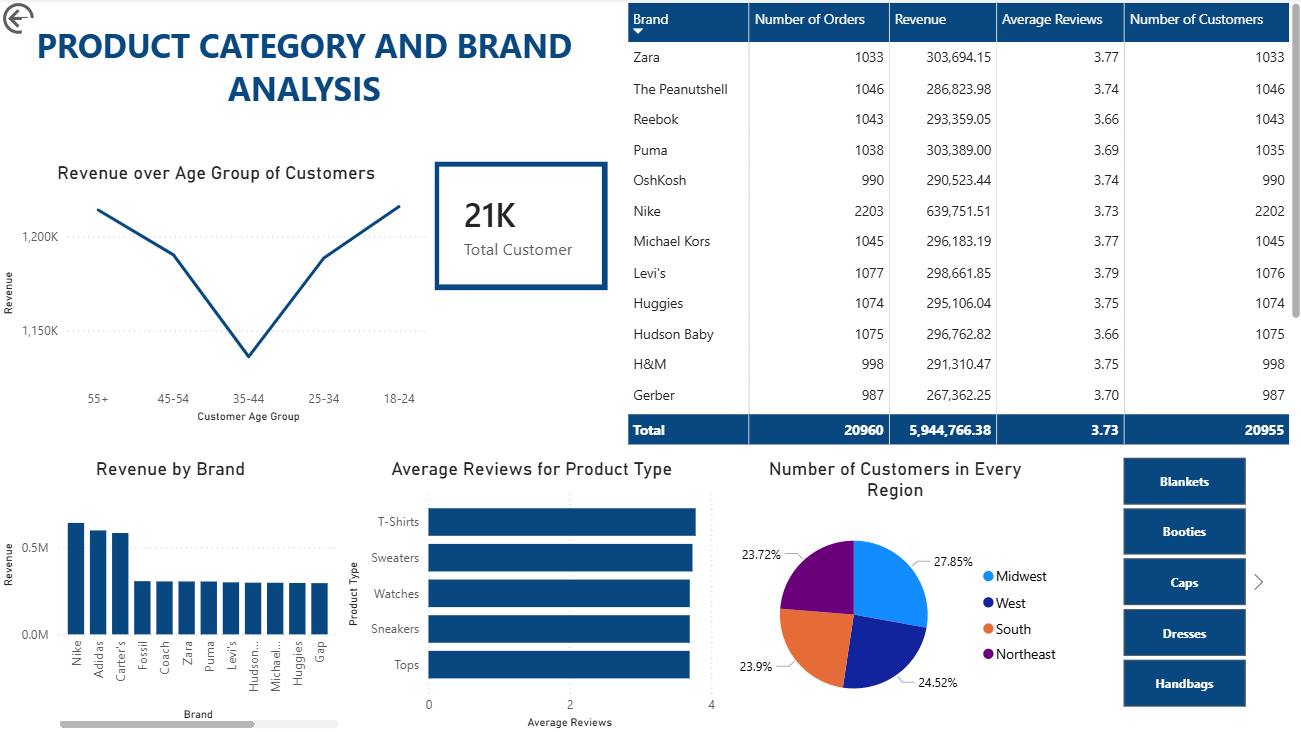

Layout of this report page (visuals, bound fields, positions):
{"tool":"powerbi","page":{"name":"Page 2","canvas":[1280,720],"ordinal":1},"visuals":[{"type":"cardVisual","fields":{"Data":["Fact_Table.Total Customer"]},"box":[427,160.5,169.6,125.7],"z":0},{"type":"pieChart","title":"Number of Customers in Every Region","fields":{"Category":["Fact_Table.region"],"Y":["CountNonNull(Fact_Table.customer_id)"]},"box":[707.1,449.7,342.2,262],"z":1000},{"type":"columnChart","title":"Revenue by Brand","fields":{"Category":["Fact_Table.brand"],"Y":["Sum(Fact_Table.final_price)"]},"box":[0,449.7,337.7,269.5],"z":2000},{"type":"barChart","title":"Average Reviews for Product Type","fields":{"Category":["Fact_Table.sub_category"],"Y":["Avg(Fact_Table.review_rating)"]},"box":[337.7,449.7,369.5,269.5],"z":3000},{"type":"lineChart","title":"Revenue over Age Group of Customers","fields":{"Category":["Fact_Table.customer_age_group"],"Y":["Sum(Fact_Table.final_price)"]},"box":[0,160.5,427,260.4],"z":4000},{"type":"tableEx","fields":{"Values":["Fact_Table.brand","Fact_Table.Order_id_final","Sum(Fact_Table.final_price)","Avg(Fact_Table.review_rating)","Fact_Table.customer_id"]},"box":[610.2,0,669.3,442.1],"z":5000},{"type":"actionButton","box":[0,0,100,40],"z":6000},{"type":"textbox","box":[22.7,19.7,552.7,106],"z":7000},{"type":"slicer","fields":{"Values":["Fact_Table.sub_category"]},"box":[1075.1,442.1,169.6,257.4],"z":8000}]}

Visuals, with their boxes in screenshot pixels (x1, y1, x2, y2), scaled from the page's 1280x720 canvas onto the 1301x732 screenshot:
cardVisual - Fact_Table.Total Customer: crop(434, 163, 606, 291)
"Number of Customers in Every Region" pieChart: crop(719, 457, 1067, 724)
"Revenue by Brand" columnChart: crop(0, 457, 343, 731)
"Average Reviews for Product Type" barChart: crop(343, 457, 719, 731)
"Revenue over Age Group of Customers" lineChart: crop(0, 163, 434, 428)
tableEx - Fact_Table.brand x Fact_Table.Order_id_final: crop(620, 0, 1300, 449)
actionButton: crop(0, 0, 102, 41)
textbox: crop(23, 20, 585, 128)
slicer - Fact_Table.sub_category: crop(1093, 449, 1265, 711)
